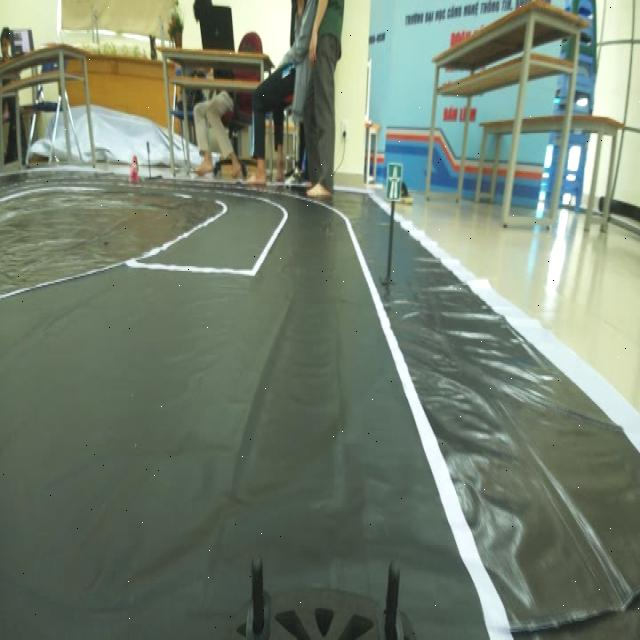highway_entry: (384, 156, 404, 207)
